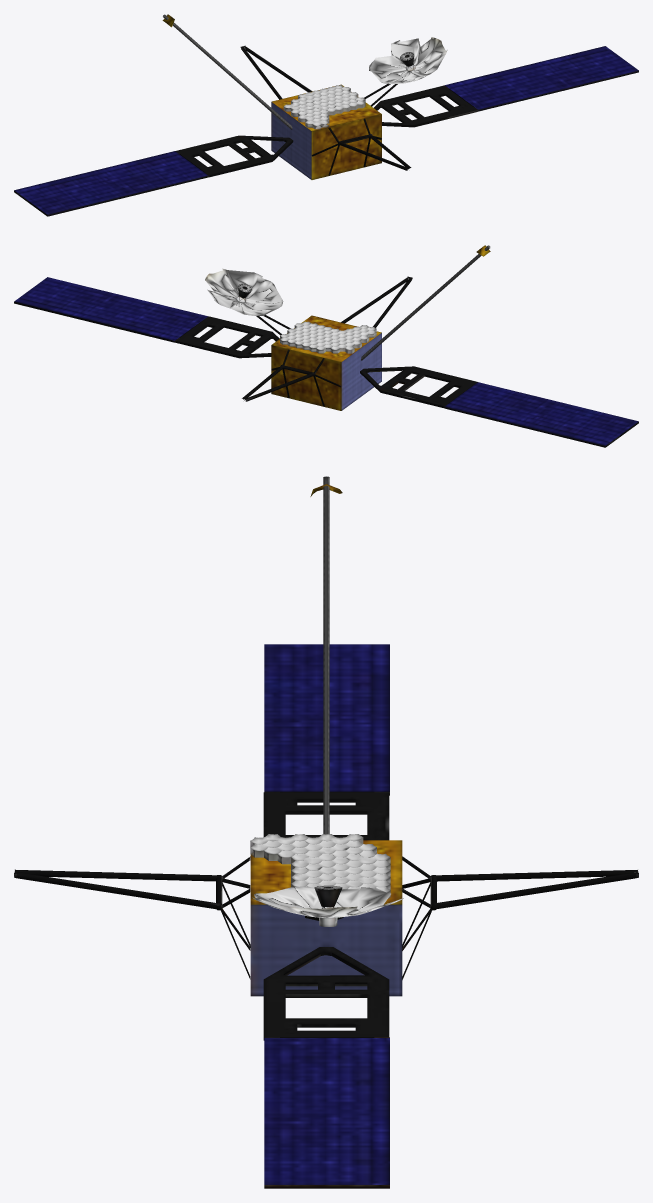
File: tracking-and-data-relay-satellites-tdrs-c.glb
3 renders of one model, top to bottom at view 1: azimuth 30°, elevation 25°; view 2: azimuth 150°, elevation 25°; view 3: azimuth 270°, elevation 25°, orthographic. The views are drawn at different scales.
Visible parts, largest first — view 1: tdrs_no_an; view 2: tdrs_no_an; view 3: tdrs_no_an.
Boxes of the visible parts, x1,y1,x2,y2 form: tdrs_no_an: [14, 14, 638, 216]; tdrs_no_an: [14, 245, 638, 447]; tdrs_no_an: [14, 476, 638, 1188].
Size of the model in its own units: 40.73 by 11.95 by 19.91.
Materials: 8 (8 with a texture image).
